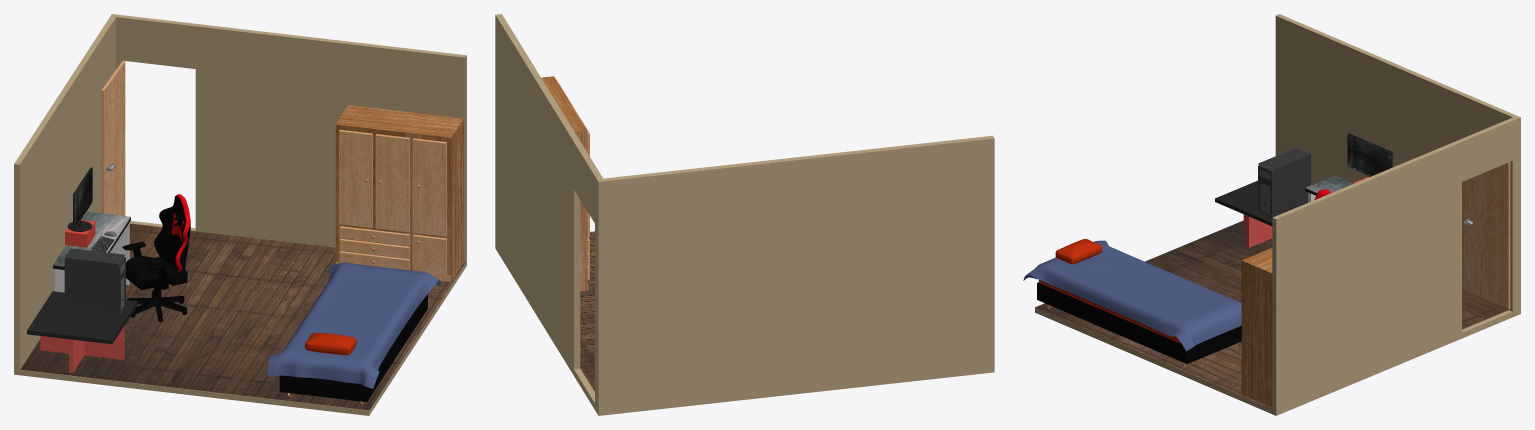
The model's file is myroom.glb.
3 renders of one model, left to right at view 1: azimuth 30°, elevation 25°; view 2: azimuth 150°, elevation 25°; view 3: azimuth 270°, elevation 25°, orthographic. The views are drawn at different scales.
Parts seen in each view (by area): view 1: Plane, floor, Plane.001, Cube.016, Cube.015, Cube.011, Cube.019, Cube.020, Cube.017, Cube.004, Cube.008, chair up (+12 smaller); view 2: Plane, floor, Cube.016; view 3: Plane, Plane.001, floor, Cube.011, Cube.016, Cube.008, Cube.015, Cube.006, Cube.004, Cube.010, Cube.002, Cube.009 (+1 smaller).
Part boxes in pixels (x1,y1,x2,y2): Plane: [14, 14, 466, 415]; floor: [20, 223, 465, 410]; Plane.001: [268, 262, 440, 388]; Cube.016: [335, 105, 463, 281]; Cube.015: [64, 248, 125, 315]; Cube.011: [101, 60, 125, 215]; Cube.019: [375, 134, 409, 232]; Cube.020: [412, 138, 446, 236]; Cube.017: [339, 129, 372, 227]; Cube.004: [27, 291, 137, 344]; Cube.008: [279, 294, 427, 401]; chair up: [154, 194, 190, 272]; Plane: [495, 14, 994, 415]; floor: [580, 231, 594, 391]; Cube.016: [541, 76, 587, 291]; Plane: [1035, 14, 1520, 415]; Plane.001: [1023, 240, 1241, 351]; floor: [1035, 220, 1508, 408]; Cube.011: [1462, 162, 1510, 309]; Cube.016: [1241, 248, 1272, 407]; Cube.008: [1037, 282, 1241, 363]; Cube.015: [1258, 148, 1310, 217]; Cube.006: [1347, 133, 1392, 176]; Cube.004: [1215, 180, 1301, 226]; Cube.010: [1055, 238, 1102, 264]; Cube.002: [1246, 215, 1272, 247]; Cube.009: [1038, 280, 1181, 343].
Size of the model in its own units: 11.5 by 5.13 by 11.78.
30 materials, 10 textured.
